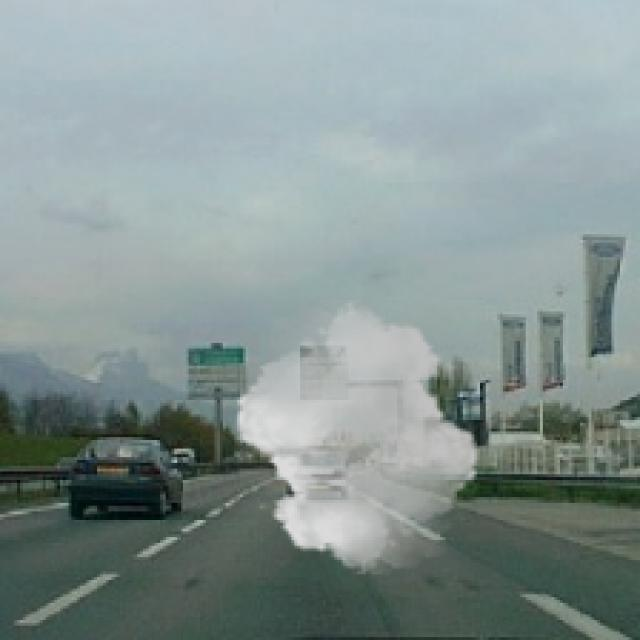Smoke: (226, 300, 488, 574)
